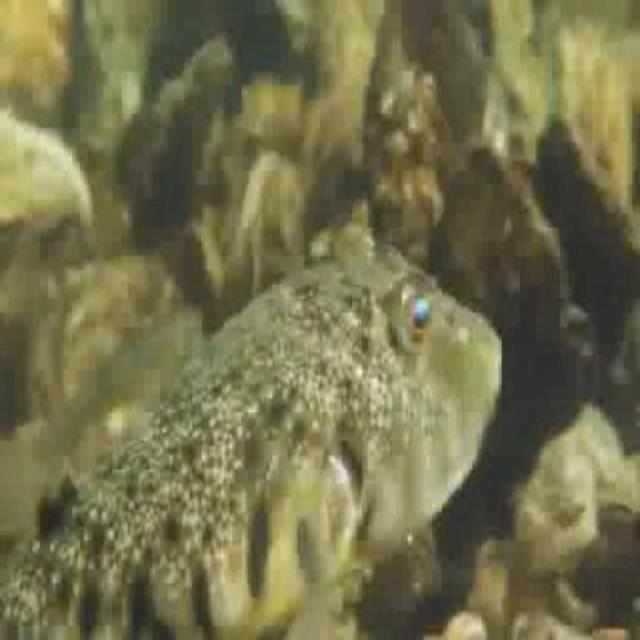Oyster-Closed: (29, 251, 182, 409), (132, 36, 235, 241), (517, 401, 619, 567), (367, 66, 437, 267), (224, 152, 310, 306), (0, 121, 90, 239), (367, 525, 442, 627), (596, 454, 640, 559)
Oyster-Open: (434, 117, 640, 463)
